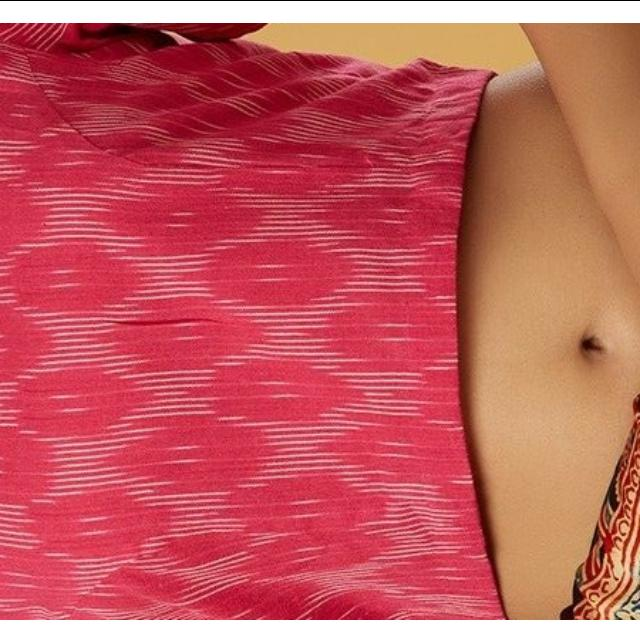cotton: (0, 21, 622, 618)
